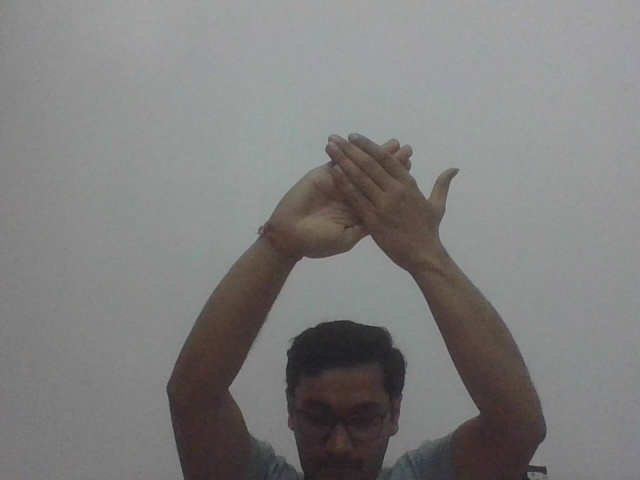H: (272, 117, 457, 264)
